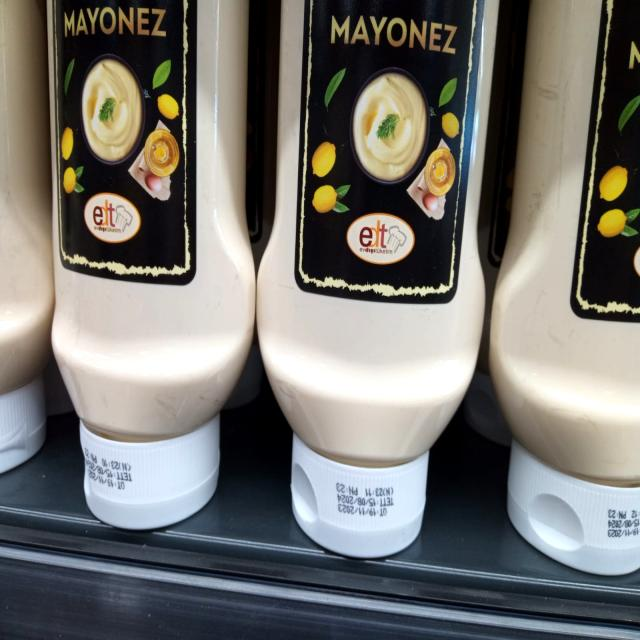mayonnaise: (258, 2, 497, 565), (49, 2, 254, 526)
